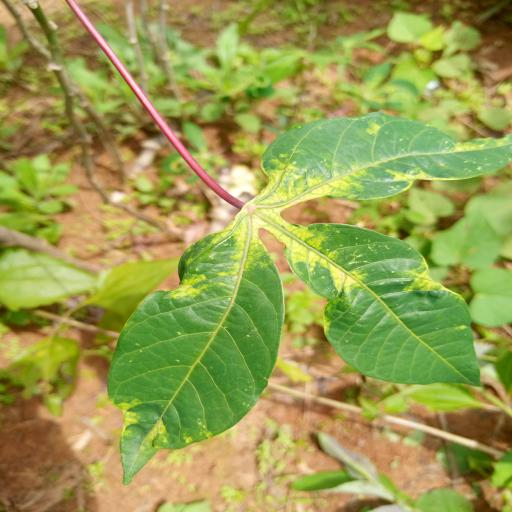Cassava_Mosaic: (105, 114, 512, 486)
